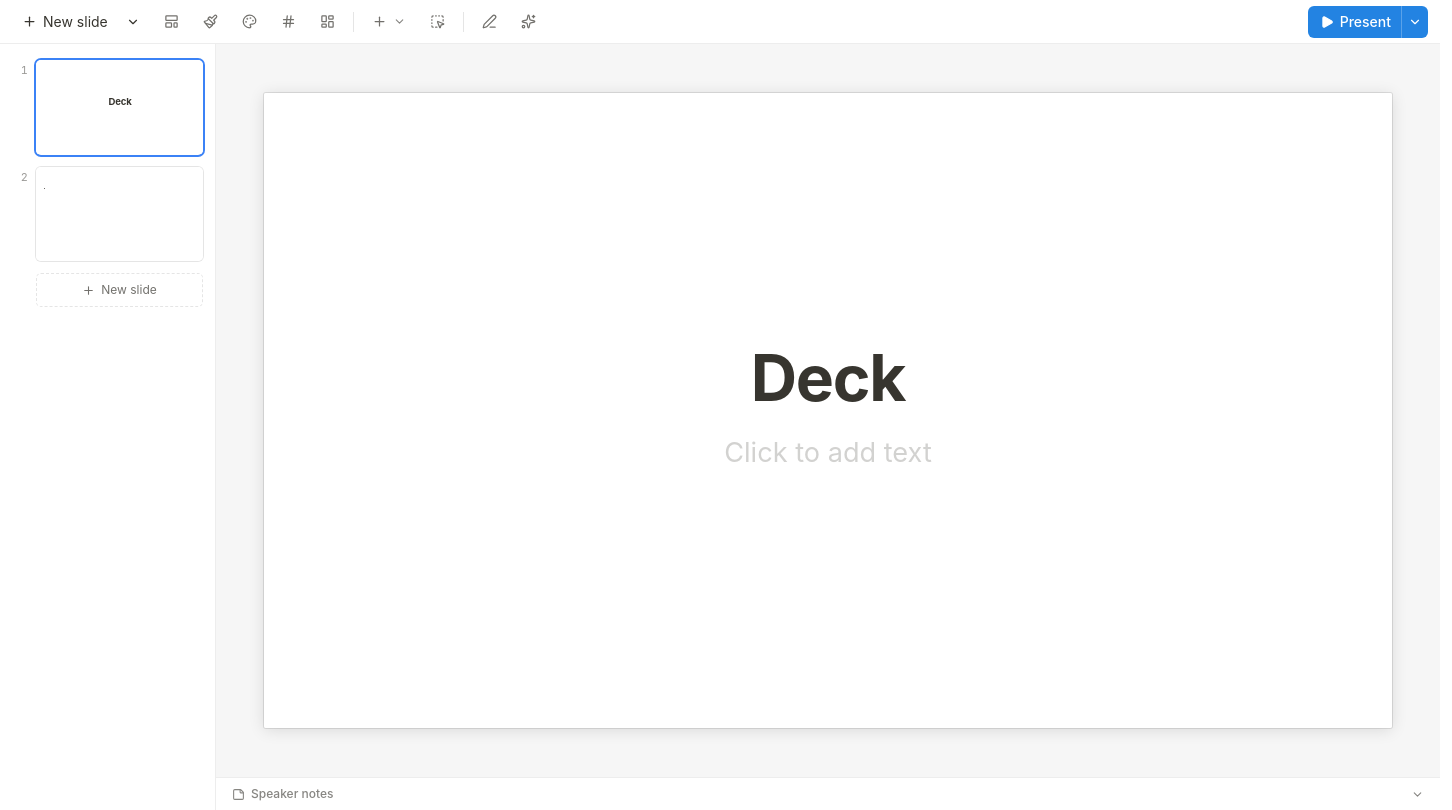
Test: PresentationPage › new slide with a chosen layout, and changing the layout
Later steps or results of the test are not shown.
Check: the list named "Slides" is shown, box top-left (0, 44), bottom-right (216, 809)
Click the button named "New slide with layout" at (133,22), box top-left (116, 6), bottom-right (150, 38)
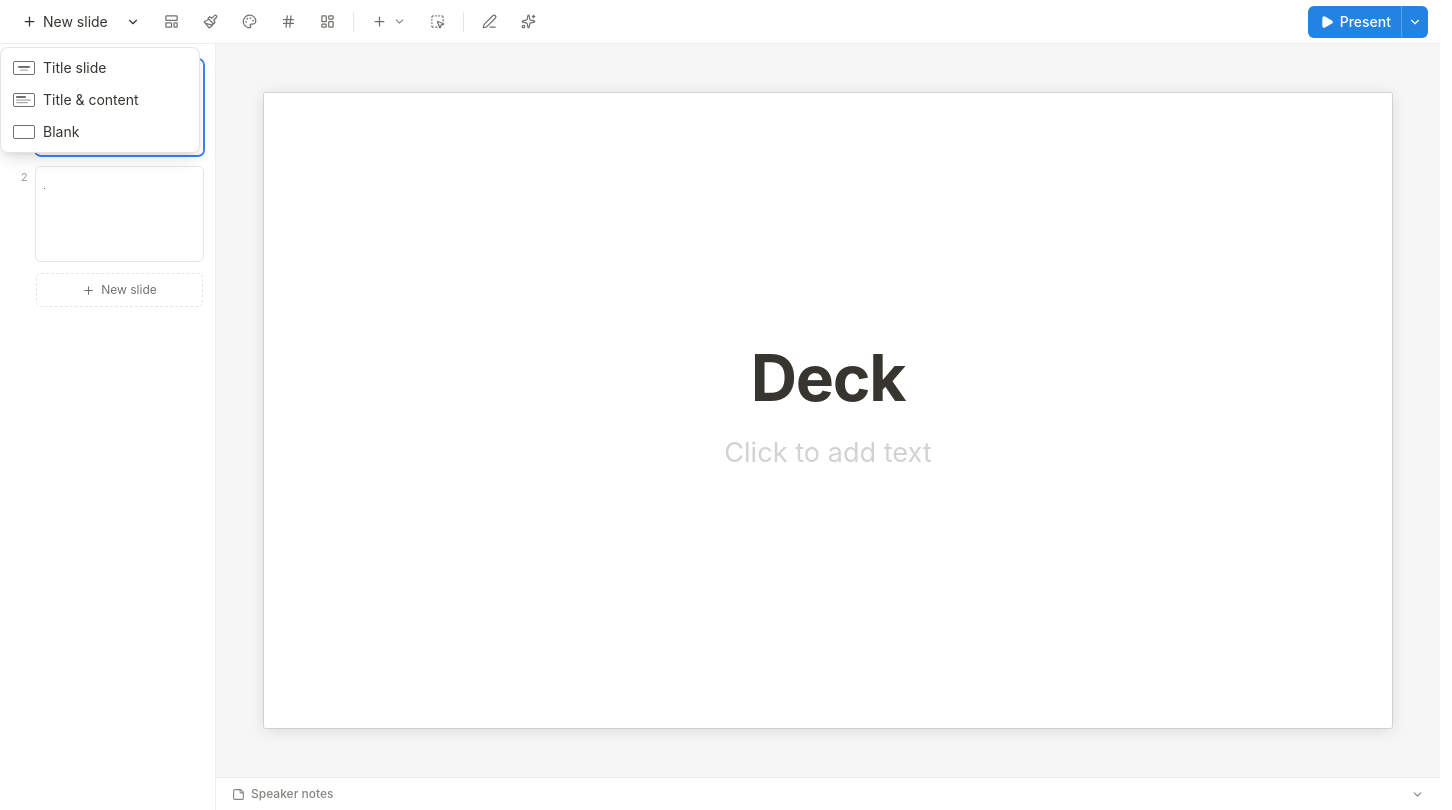
Click the menu item "Blank" at (100,132), box top-left (5, 116), bottom-right (195, 148)
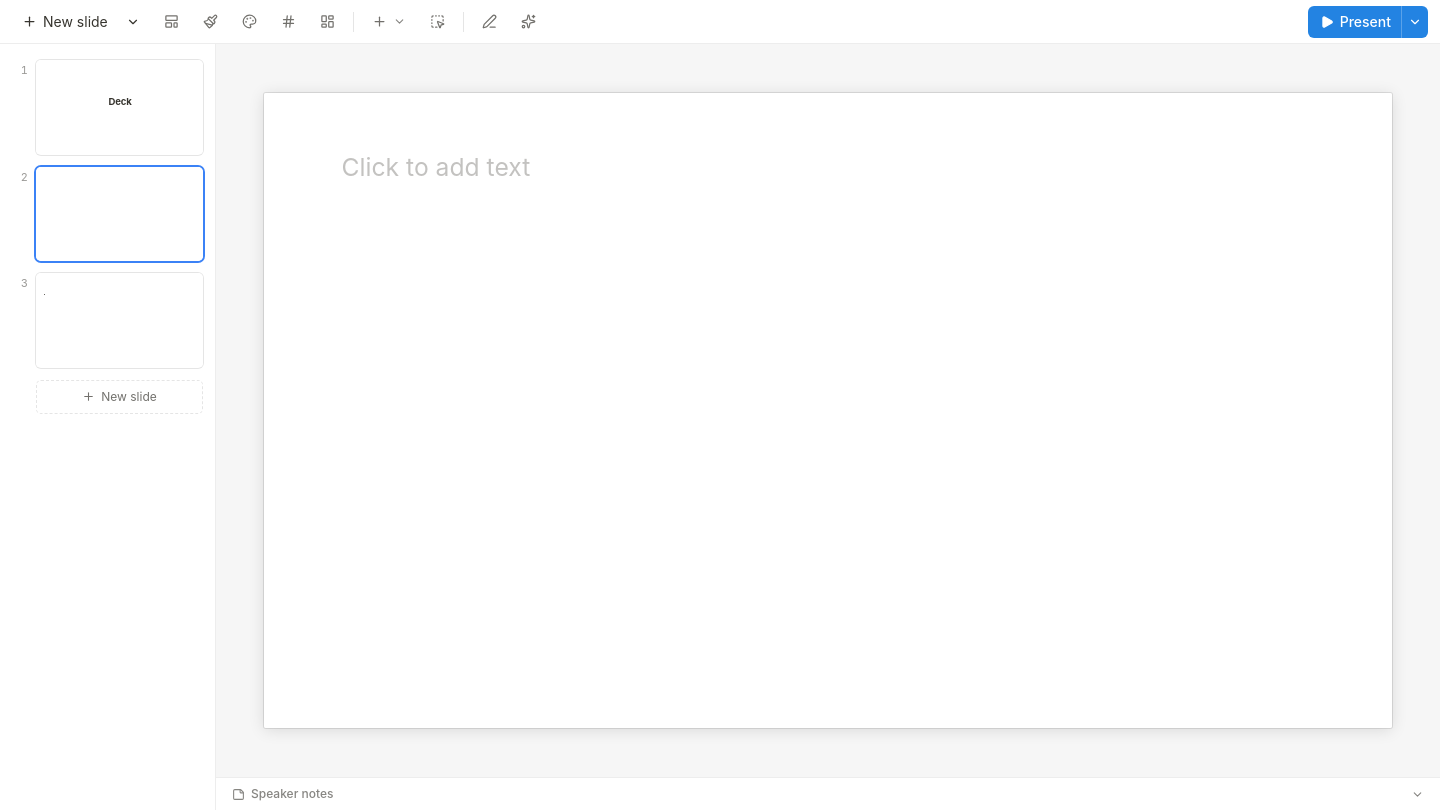
Check: the number of options is 3, box top-left (12, 60), bottom-right (203, 154); top-left (12, 166), bottom-right (203, 261); top-left (12, 273), bottom-right (203, 368)
